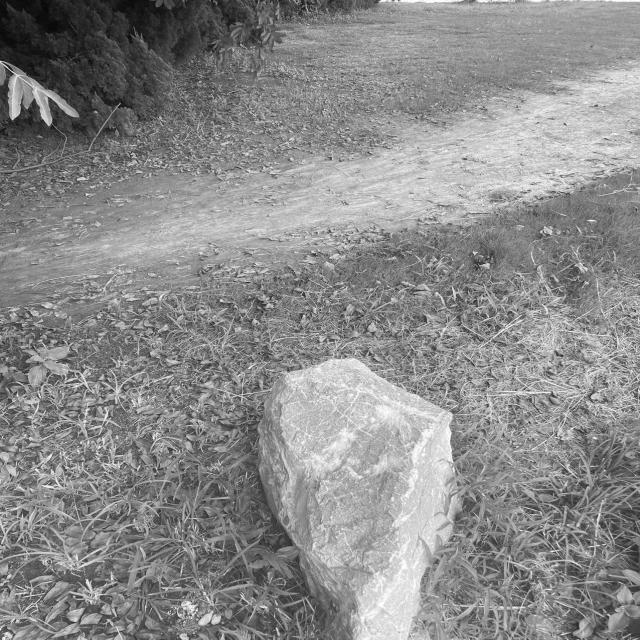Stone: (258, 359, 458, 640)
